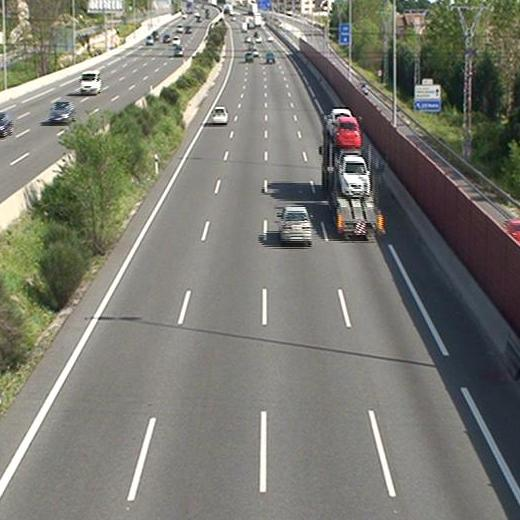car: (337, 154, 371, 197), (278, 206, 313, 242), (332, 117, 361, 148), (211, 106, 228, 124), (265, 51, 275, 62), (244, 52, 253, 61)
truck: (322, 113, 380, 237)
